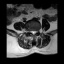CCS_normal: (32, 29, 34, 36)
LFS_normal: (36, 29, 38, 34)
LLS_normal: (34, 29, 36, 35)
RFS_normal: (29, 28, 31, 34)
RLS_normal: (31, 28, 32, 35)
